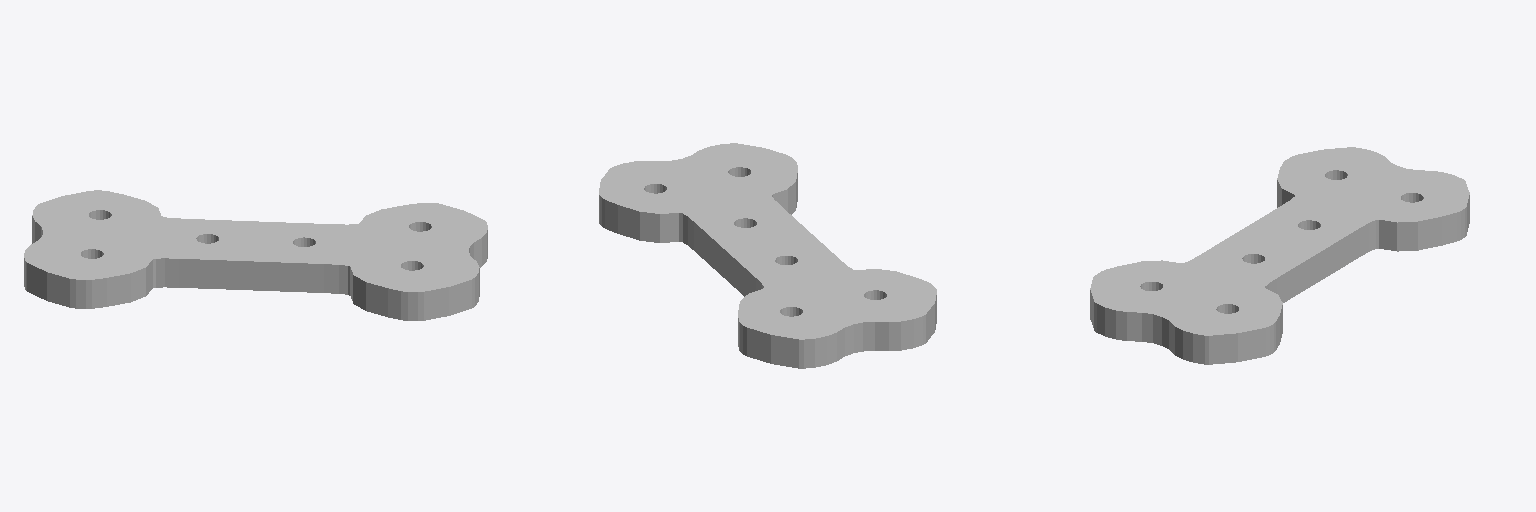
File: Dog's biscuit.obj
The picture shows the model from 3 angles: view 1: azimuth 30°, elevation 25°; view 2: azimuth 150°, elevation 25°; view 3: azimuth 270°, elevation 25°; orthographic projection.
Parts seen in each view (by area): view 1: Box001; view 2: Box001; view 3: Box001.
Boxes of the visible parts, <box> form: Box001: <box>24,190,487,320</box>; Box001: <box>599,143,936,368</box>; Box001: <box>1090,147,1469,364</box>.
Bounding box in the file's own units: 658361 × 47286 × 560128.